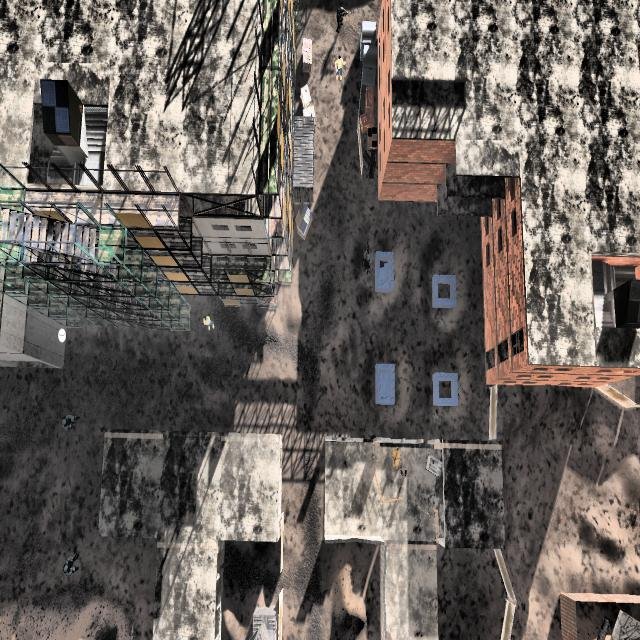bad: (332, 0, 354, 42), (60, 548, 81, 586), (357, 245, 377, 281), (60, 402, 79, 438)
good: (197, 306, 218, 344), (332, 49, 350, 90)
